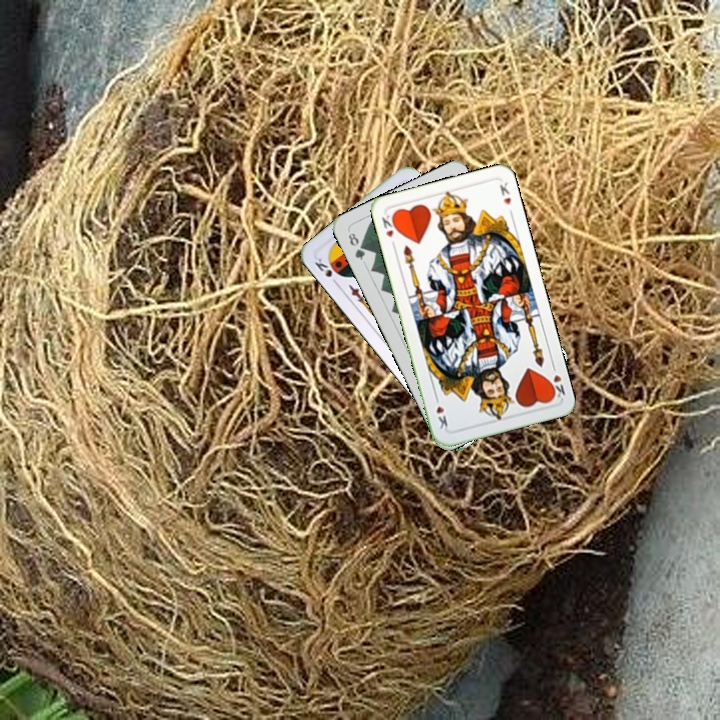G8: (344, 229, 368, 263)
HK: (544, 360, 568, 402), (378, 210, 400, 250)
SK: (310, 254, 341, 288)
